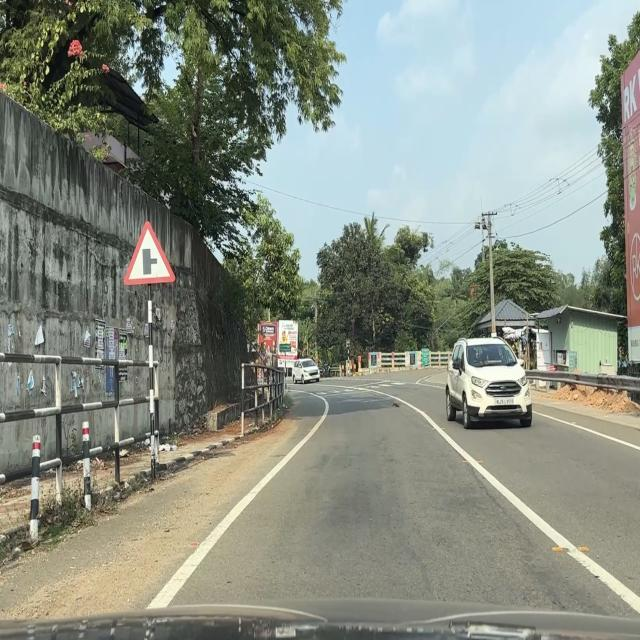GENERAL: (279, 343, 292, 352)
SIDE_ROAD_RIGHT: (123, 219, 176, 287)
